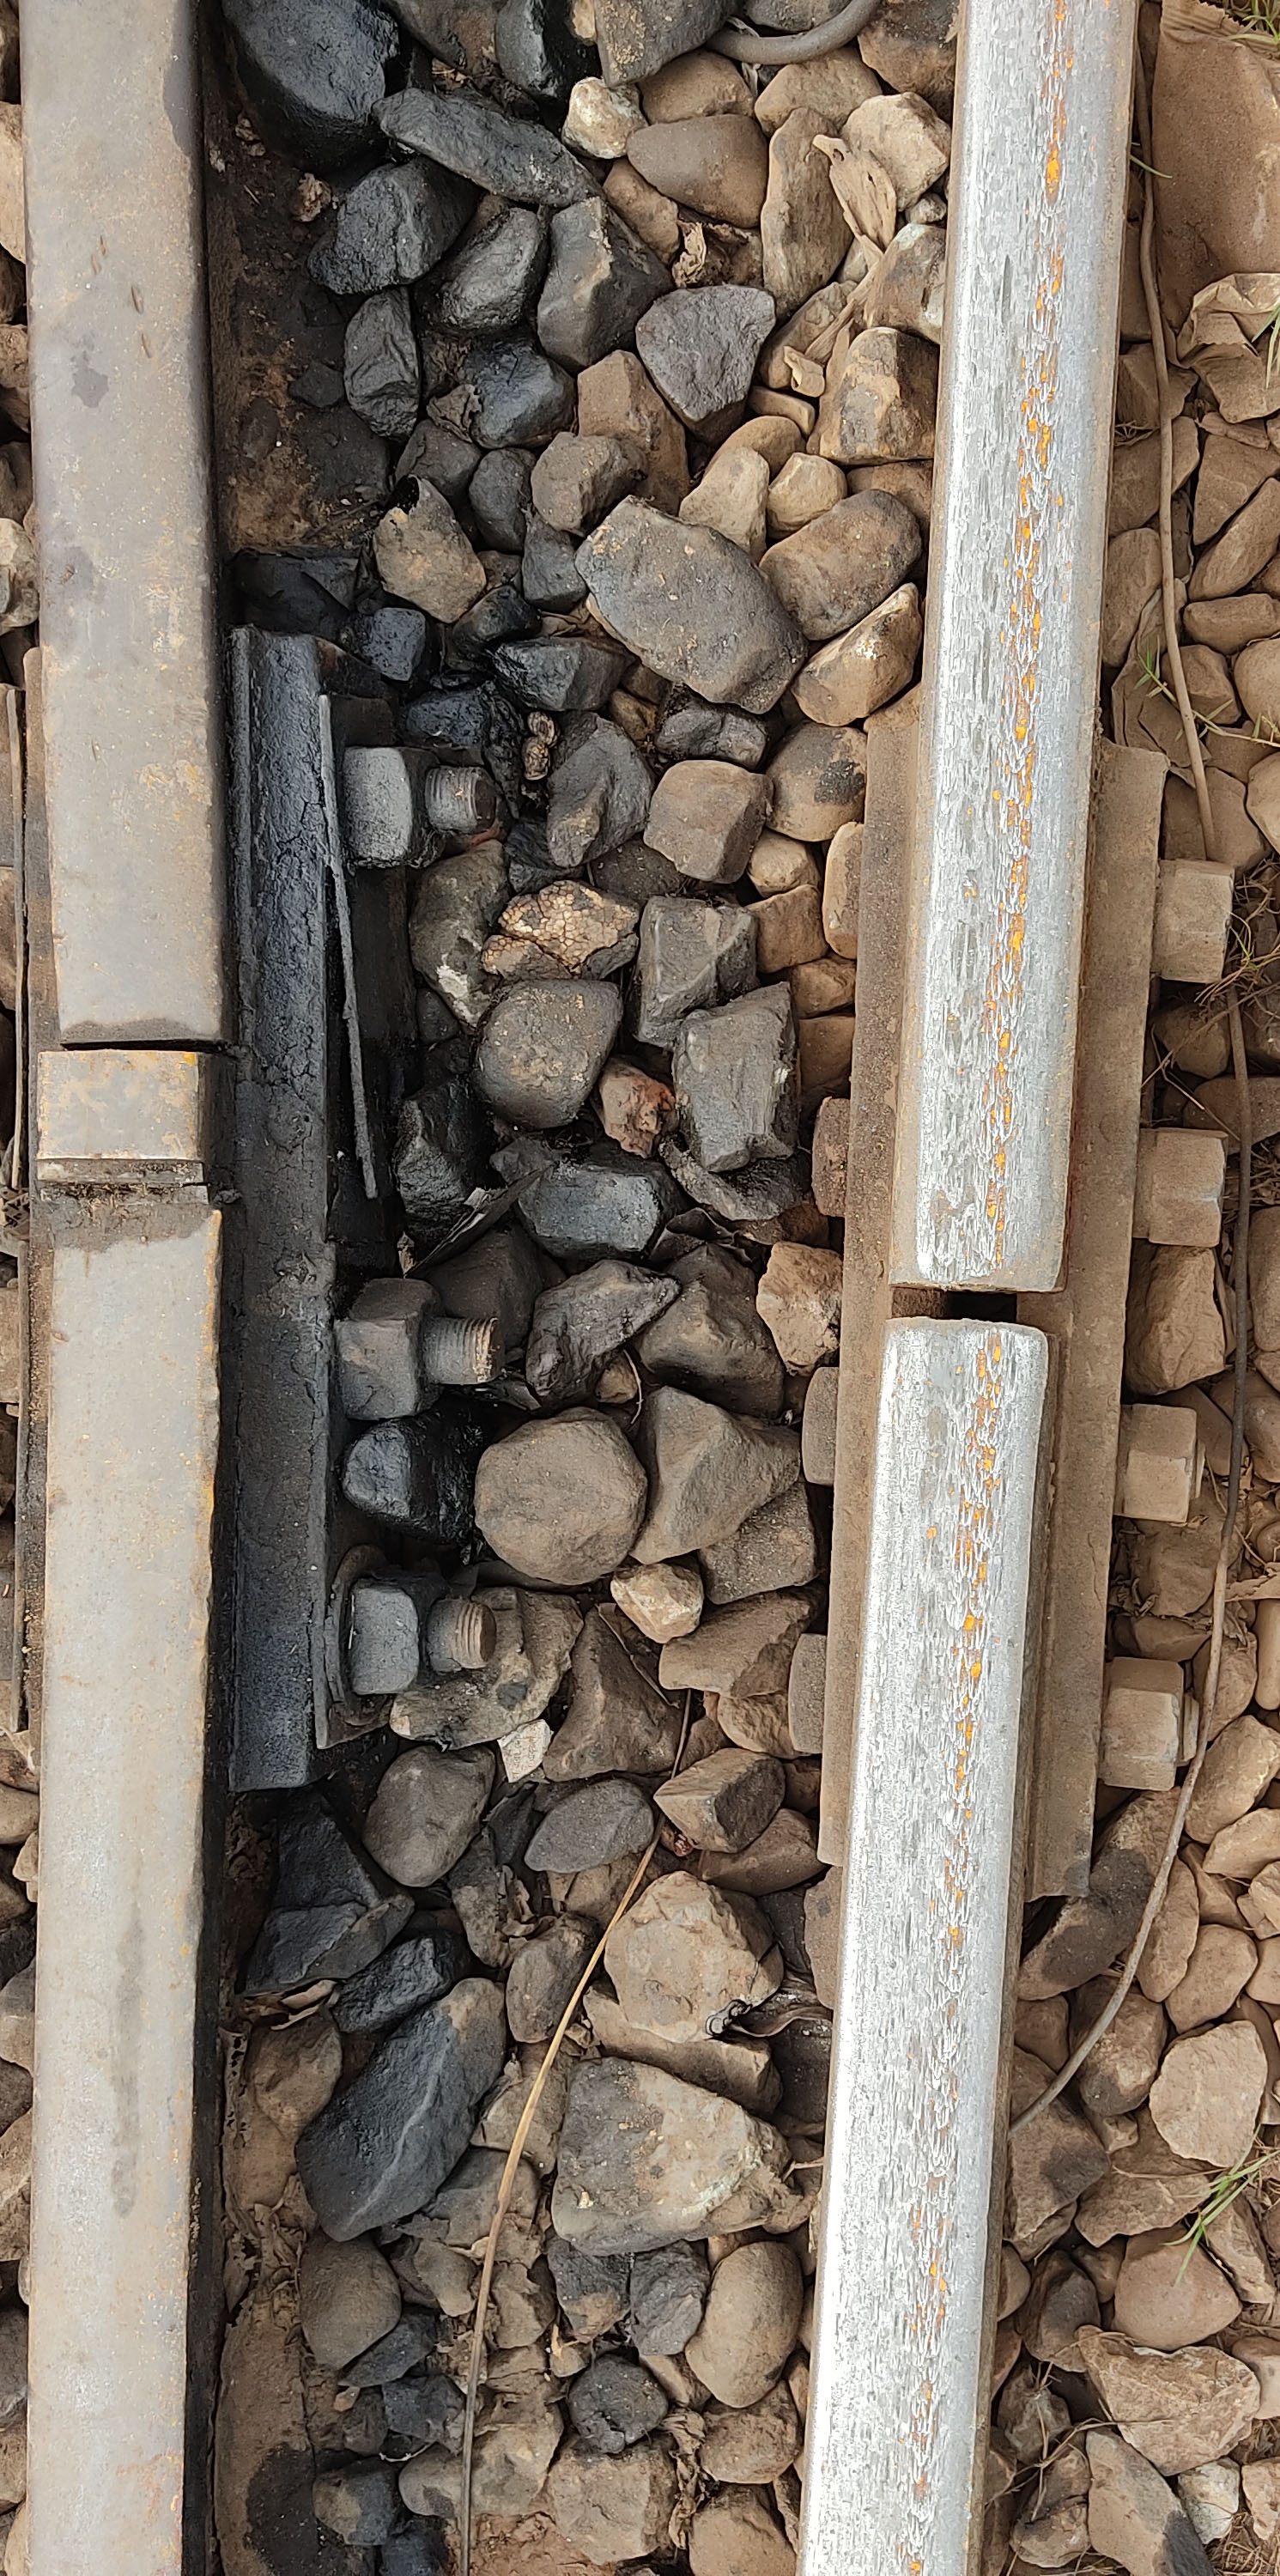error2: (20, 997, 274, 1298), (859, 1203, 1132, 1465)
